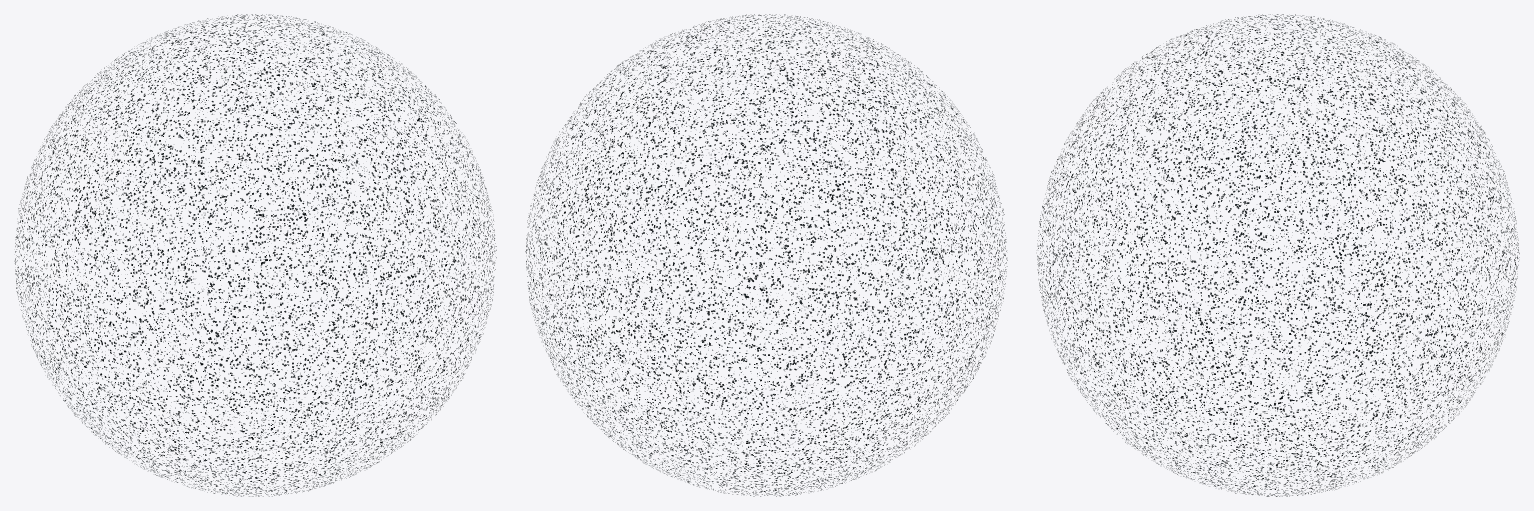
Rendered from stars.fbx.
3 views of the same model, side by side, from view 1: azimuth 30°, elevation 25°; view 2: azimuth 150°, elevation 25°; view 3: azimuth 270°, elevation 25° (orthographic).
Parts seen in each view (by area): view 1: Plane002; view 2: Plane002; view 3: Plane002.
Boxes of the visible parts, box(x1,y1,x2,y2) form: Plane002: box(14, 14, 496, 496); Plane002: box(525, 14, 1007, 496); Plane002: box(1037, 14, 1519, 496).
Size of the model in its own units: 999 by 1000 by 999.
